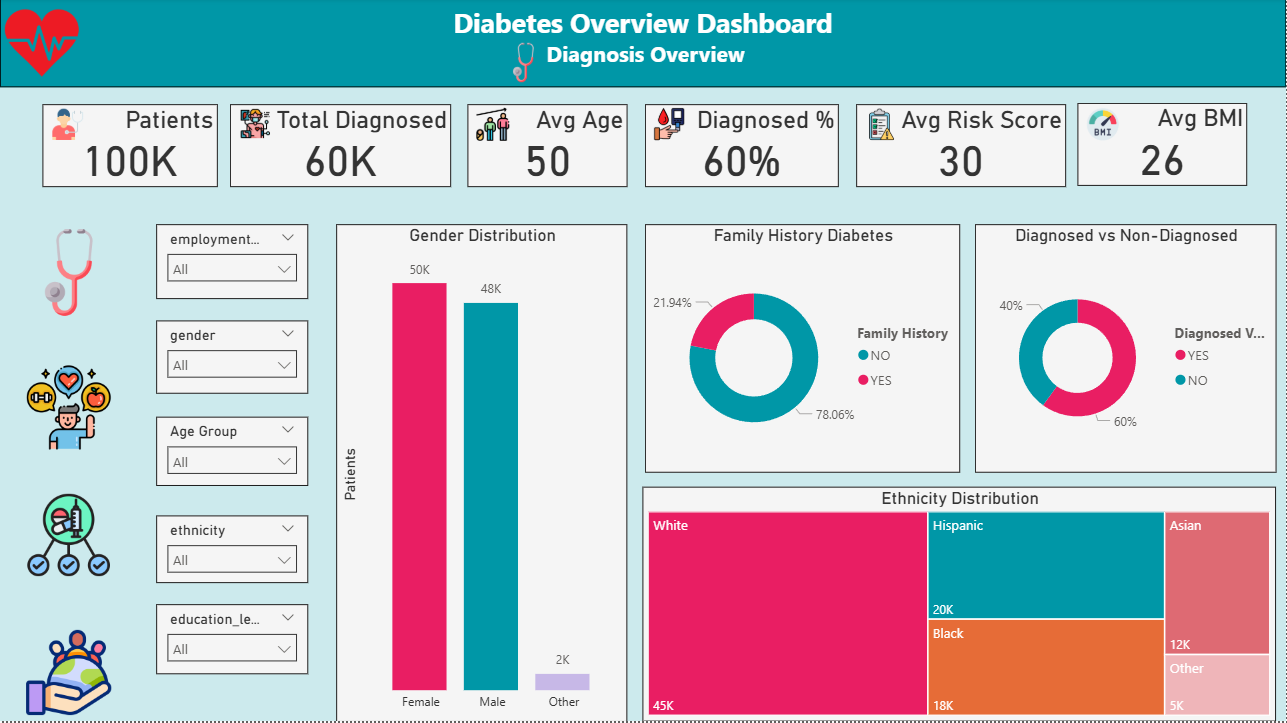

The page's visual inventory and layout, read from the dashboard file:
{"tool":"powerbi","page":{"name":"Overview","canvas":[1280,720],"ordinal":0},"visuals":[{"type":"textbox","box":[0,0,1280,88.9],"z":0,"group":"g1"},{"type":"image","box":[20.6,225,94.7,96.1],"z":0,"group":"g2"},{"type":"columnChart","title":"Gender Distribution","fields":{"Y":["CountNonNull(diabetes diabetes_dataset.PATIENT_ID)"],"Category":["diabetes diabetes_dataset.gender"]},"box":[334.6,225.2,289.8,495.1],"z":0},{"type":"image","box":[0,0,83.8,88.9],"z":1000,"group":"g1"},{"type":"card","title":"Patients","fields":{"Values":["CountNonNull(diabetes diabetes_dataset.PATIENT_ID)"]},"box":[42.3,105.7,174.2,82.1],"z":1000},{"type":"image","box":[20.6,359.5,94.7,96.1],"z":1000,"group":"g2"},{"type":"donutChart","title":"Diagnosed vs Non-Diagnosed","fields":{"Y":["CountNonNull(diabetes diabetes_dataset.PATIENT_ID)"],"Category":["diabetes diabetes_dataset.Diagnosed Vs Non-Diagnosed"]},"box":[970.3,225.2,299.8,247.5],"z":2000},{"type":"image","box":[20.6,485.7,94.7,96.1],"z":2000,"group":"g2"},{"type":"card","title":"Diagnosed %","fields":{"Values":["diabetes diabetes_dataset.% of Diagnosed Diabetes"]},"box":[641.9,105.7,192.8,82.1],"z":3000},{"type":"image","box":[20.6,622.9,94.7,96.1],"z":3000,"group":"g2"},{"type":"treemap","title":"Ethnicity Distribution","fields":{"Group":["diabetes diabetes_dataset.ethnicity"],"Values":["CountNonNull(diabetes diabetes_dataset.PATIENT_ID)"]},"box":[639.4,486.4,630.7,233.9],"z":4000},{"type":"card","title":"Avg Risk Score","fields":{"Values":["Avg(diabetes diabetes_dataset.diabetes_risk_score)"]},"box":[852.1,105.7,209,82.1],"z":5000},{"type":"group","id":"g1","title":"Group 1","box":[0,0,1280,88.9],"z":6000},{"type":"card","title":"Avg Age","fields":{"Values":["Avg(diabetes diabetes_dataset.age)"]},"box":[465.2,105.7,159.2,82.1],"z":7000},{"type":"card","title":"Avg BMI","fields":{"Values":["Avg(diabetes diabetes_dataset.bmi)"]},"box":[1072.3,104.5,169.2,82.1],"z":8000},{"type":"image","box":[1072.3,104.5,51,42.3],"z":9000},{"type":"image","box":[497.6,40,46.4,49],"z":10000},{"type":"image","box":[42.3,104.5,50.4,42.3],"z":11000},{"type":"donutChart","title":"Family History Diabetes","fields":{"Y":["CountNonNull(diabetes diabetes_dataset.PATIENT_ID)"],"Category":["diabetes diabetes_dataset.Family History"]},"box":[641.9,225.2,313.5,247.5],"z":12000},{"type":"image","box":[640.6,104.5,49.8,42.3],"z":13000},{"type":"image","box":[852.1,104.5,49.8,42.3],"z":14000},{"type":"image","box":[465.2,104.5,51,42.3],"z":15000},{"type":"card","title":"Total Diagnosed","fields":{"Values":["Sum(diabetes diabetes_dataset.diagnosed_diabetes)"]},"box":[228.9,105.7,220.2,82.1],"z":16000},{"type":"image","box":[228.9,104.5,51,41.1],"z":17000},{"type":"group","id":"g2","title":"Group 2","box":[20.6,225,94.7,494],"z":18000},{"type":"slicer","fields":{"Values":["diabetes diabetes_dataset.ethnicity"]},"box":[155.1,514.6,150.9,67.2],"z":19000},{"type":"slicer","fields":{"Values":["diabetes diabetes_dataset.employment_status"]},"box":[155.1,225,150.9,74.1],"z":20000},{"type":"slicer","fields":{"Values":["diabetes diabetes_dataset.gender"]},"box":[155.1,321.1,150.9,72.7],"z":21000},{"type":"slicer","fields":{"Values":["diabetes diabetes_dataset.Age Group"]},"box":[155.1,417.2,150.9,68.6],"z":22000},{"type":"slicer","fields":{"Values":["diabetes diabetes_dataset.education_level"]},"box":[155.1,603.8,150.9,70],"z":23000}]}

Visuals, with their boxes in screenshot pixels (x1, y1, x2, y2), scaled from the page's 1280x720 canvas onto the 1287x723 screenshot:
textbox: (x1=0, y1=0, x2=1286, y2=89)
image: (x1=21, y1=226, x2=116, y2=322)
"Gender Distribution" columnChart: (x1=336, y1=226, x2=628, y2=722)
image: (x1=0, y1=0, x2=84, y2=89)
"Patients" card: (x1=43, y1=106, x2=218, y2=189)
image: (x1=21, y1=361, x2=116, y2=457)
"Diagnosed vs Non-Diagnosed" donutChart: (x1=976, y1=226, x2=1277, y2=475)
image: (x1=21, y1=488, x2=116, y2=584)
"Diagnosed %" card: (x1=645, y1=106, x2=839, y2=189)
image: (x1=21, y1=625, x2=116, y2=722)
"Ethnicity Distribution" treemap: (x1=643, y1=488, x2=1277, y2=722)
"Avg Risk Score" card: (x1=857, y1=106, x2=1067, y2=189)
"Group 1" group: (x1=0, y1=0, x2=1286, y2=89)
"Avg Age" card: (x1=468, y1=106, x2=628, y2=189)
"Avg BMI" card: (x1=1078, y1=105, x2=1248, y2=187)
image: (x1=1078, y1=105, x2=1129, y2=147)
image: (x1=500, y1=40, x2=547, y2=89)
image: (x1=43, y1=105, x2=93, y2=147)
"Family History Diabetes" donutChart: (x1=645, y1=226, x2=961, y2=475)
image: (x1=644, y1=105, x2=694, y2=147)
image: (x1=857, y1=105, x2=907, y2=147)
image: (x1=468, y1=105, x2=519, y2=147)
"Total Diagnosed" card: (x1=230, y1=106, x2=452, y2=189)
image: (x1=230, y1=105, x2=281, y2=146)
"Group 2" group: (x1=21, y1=226, x2=116, y2=722)
slicer - diabetes diabetes_dataset.ethnicity: (x1=156, y1=517, x2=308, y2=584)
slicer - diabetes diabetes_dataset.employment_status: (x1=156, y1=226, x2=308, y2=300)
slicer - diabetes diabetes_dataset.gender: (x1=156, y1=322, x2=308, y2=395)
slicer - diabetes diabetes_dataset.Age Group: (x1=156, y1=419, x2=308, y2=488)
slicer - diabetes diabetes_dataset.education_level: (x1=156, y1=606, x2=308, y2=677)
